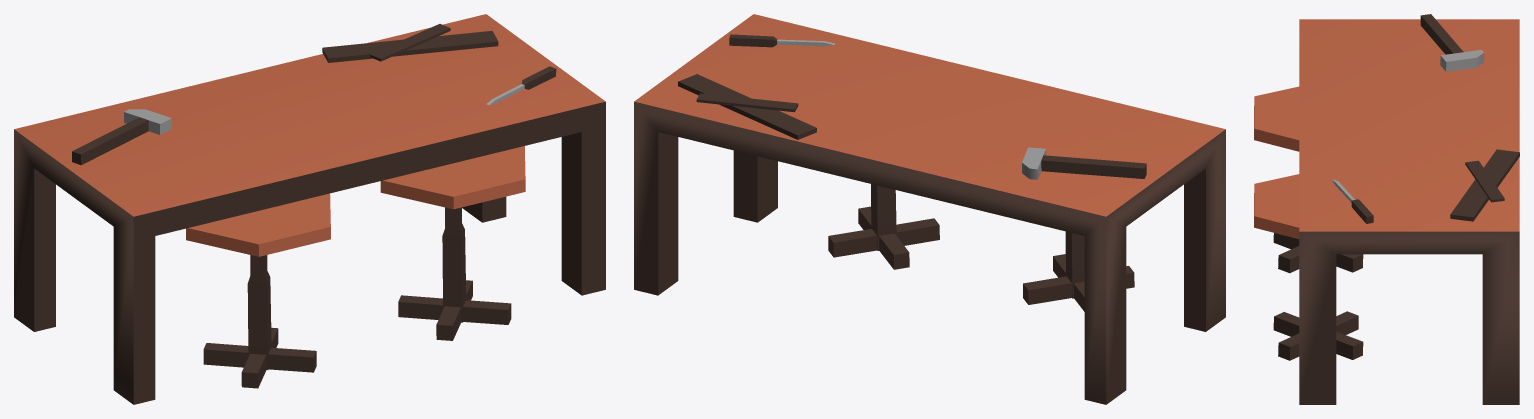
File: A3D_Etabli_de_reparation_02_.fbx
3 views of the same model, side by side, from view 1: azimuth 30°, elevation 25°; view 2: azimuth 150°, elevation 25°; view 3: azimuth 270°, elevation 25° (orthographic). The views are drawn at different scales.
Visible parts, largest first — view 1: pCube195; view 2: pCube195; view 3: pCube195.
Boxes of the visible parts, left/top/right/bottom form: pCube195: left=14, top=14, right=605, bottom=404; pCube195: left=634, top=14, right=1225, bottom=404; pCube195: left=1254, top=14, right=1519, bottom=404.
Size of the model in its own units: 49.53 by 20.23 by 26.21.
